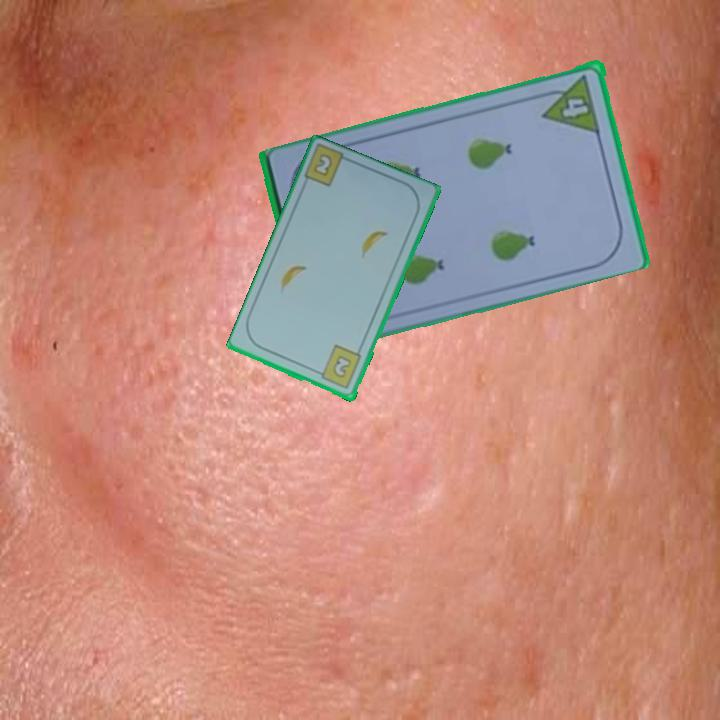2b: (313, 342, 364, 392), (310, 151, 335, 180)
4p: (535, 70, 604, 135)
